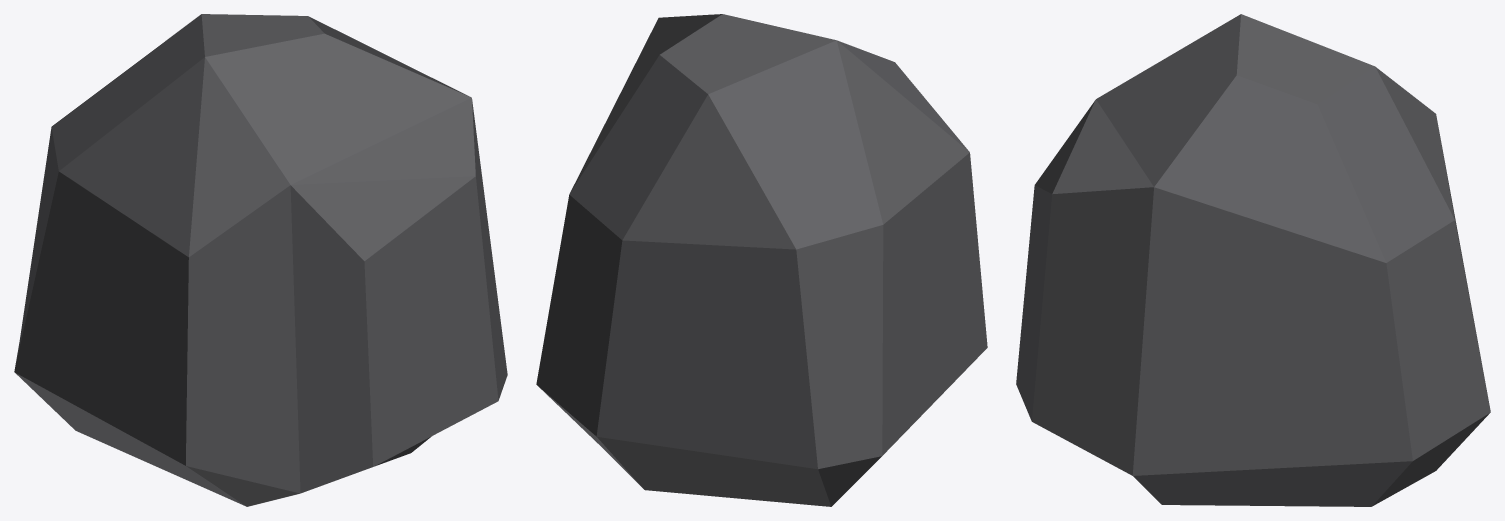
The model's file is TB_Env_Rock3_C.FBX.
3 views of the same model, side by side, from view 1: azimuth 30°, elevation 25°; view 2: azimuth 150°, elevation 25°; view 3: azimuth 270°, elevation 25° (orthographic).
Parts seen in each view (by area): view 1: TB_Env_Rock3_C; view 2: TB_Env_Rock3_C; view 3: TB_Env_Rock3_C.
Part boxes in pixels (<box>): TB_Env_Rock3_C: <box>14,14,507,506</box>; TB_Env_Rock3_C: <box>536,14,987,506</box>; TB_Env_Rock3_C: <box>1016,14,1490,506</box>.
Bounding box in the file's own units: 1.64 × 1.74 × 1.83.
